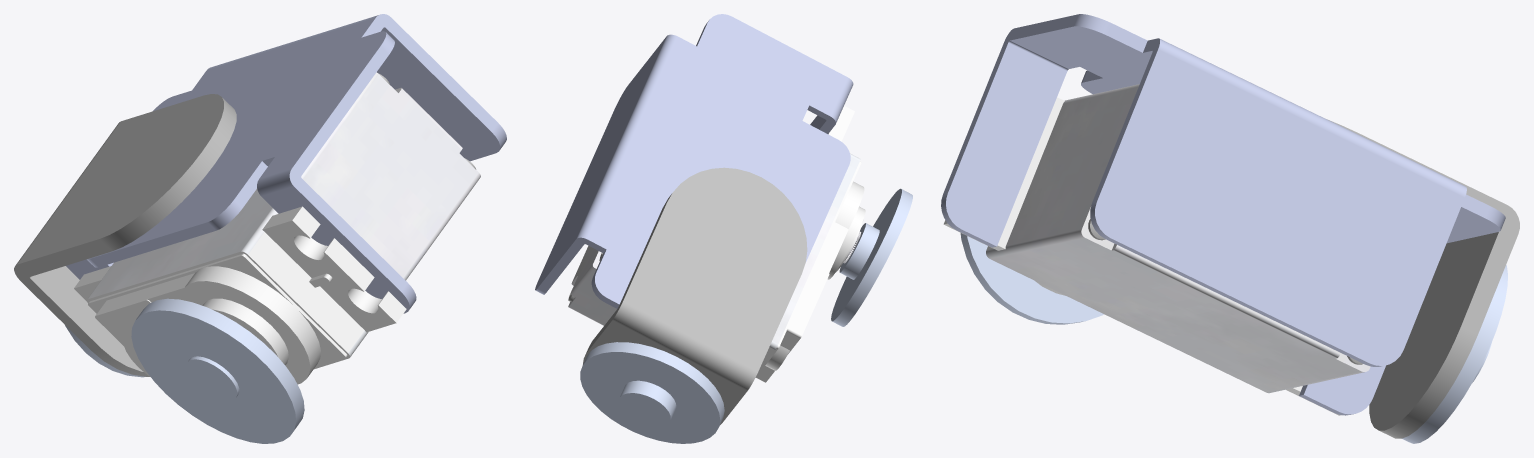
The model's file is r_forearmB_link.dae.
The picture shows the model from 3 angles, left to right: view 1: azimuth 30°, elevation 25°; view 2: azimuth 150°, elevation 25°; view 3: azimuth 270°, elevation 25°; orthographic projection. The views are drawn at different scales.
Parts seen in each view (by area): view 1: Actor0; view 2: Actor0; view 3: Actor0.
Part boxes in pixels (x1,y1,x2,y2): Actor0: (14, 14, 506, 443); Actor0: (535, 14, 912, 443); Actor0: (941, 14, 1519, 443).
Size of the model in its own units: 0.052 by 0.0584 by 0.067.
7 materials, 2 textured.
